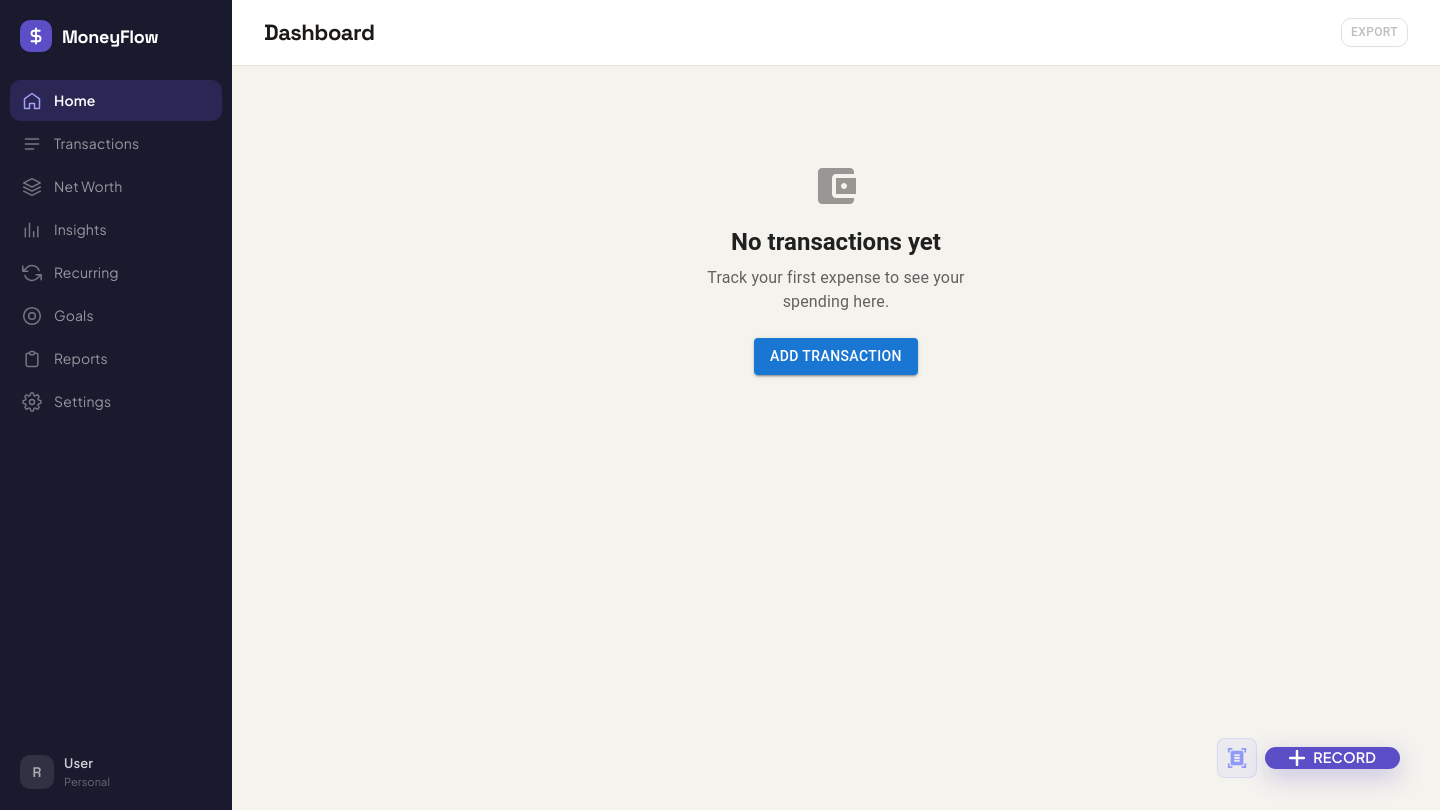
Empty state on Transactions tab › onboarding CTA button opens AddExpenseModal
This screenshot has width=1440, height=810.
Step 1. Click the button "Transactions" → [81, 144], box left=22, top=134, right=139, bottom=154
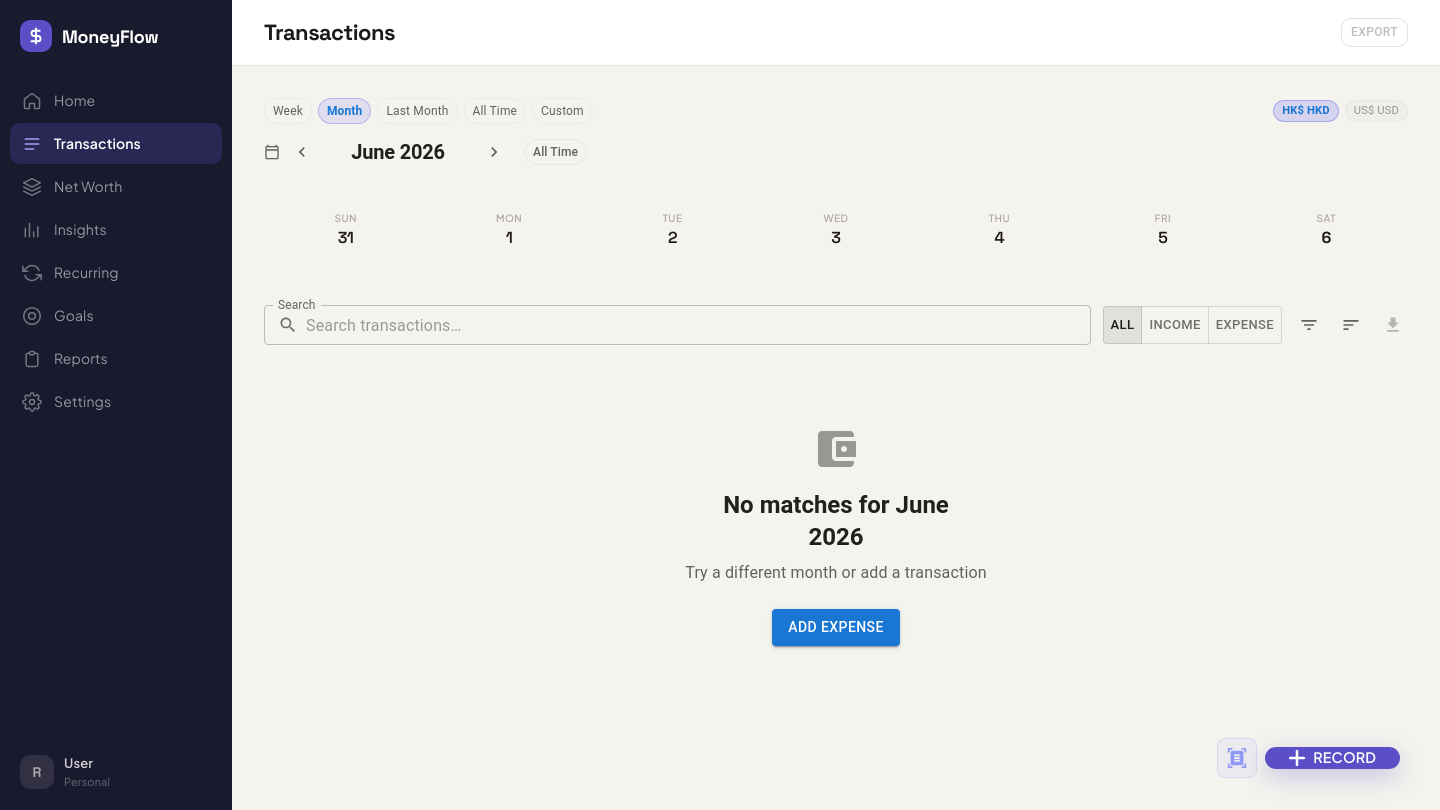
Result: the button "Add expense" is shown
Step 2. Click the button "Add expense" → [836, 627], box left=772, top=609, right=900, bottom=646
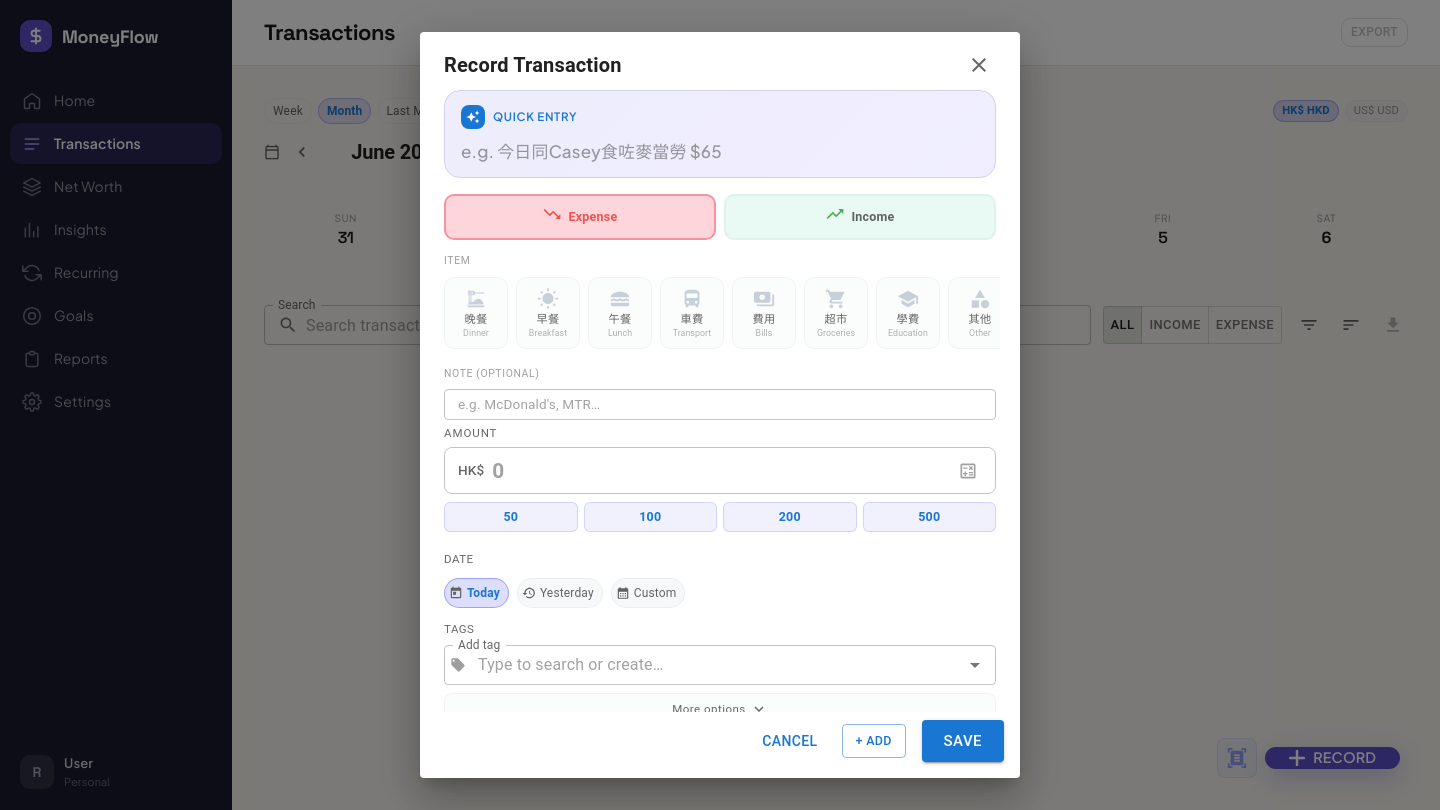
Result: the heading "Record Transaction" is shown at left=444, top=49, right=622, bottom=81
